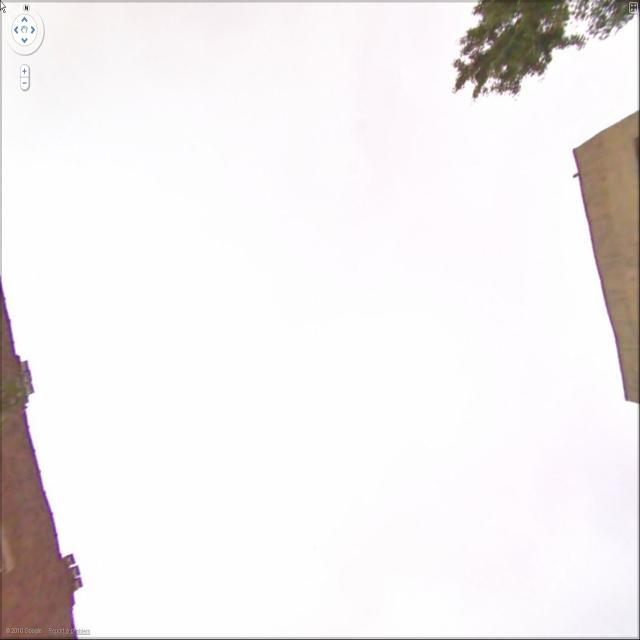b_1: (565, 95, 640, 408)
